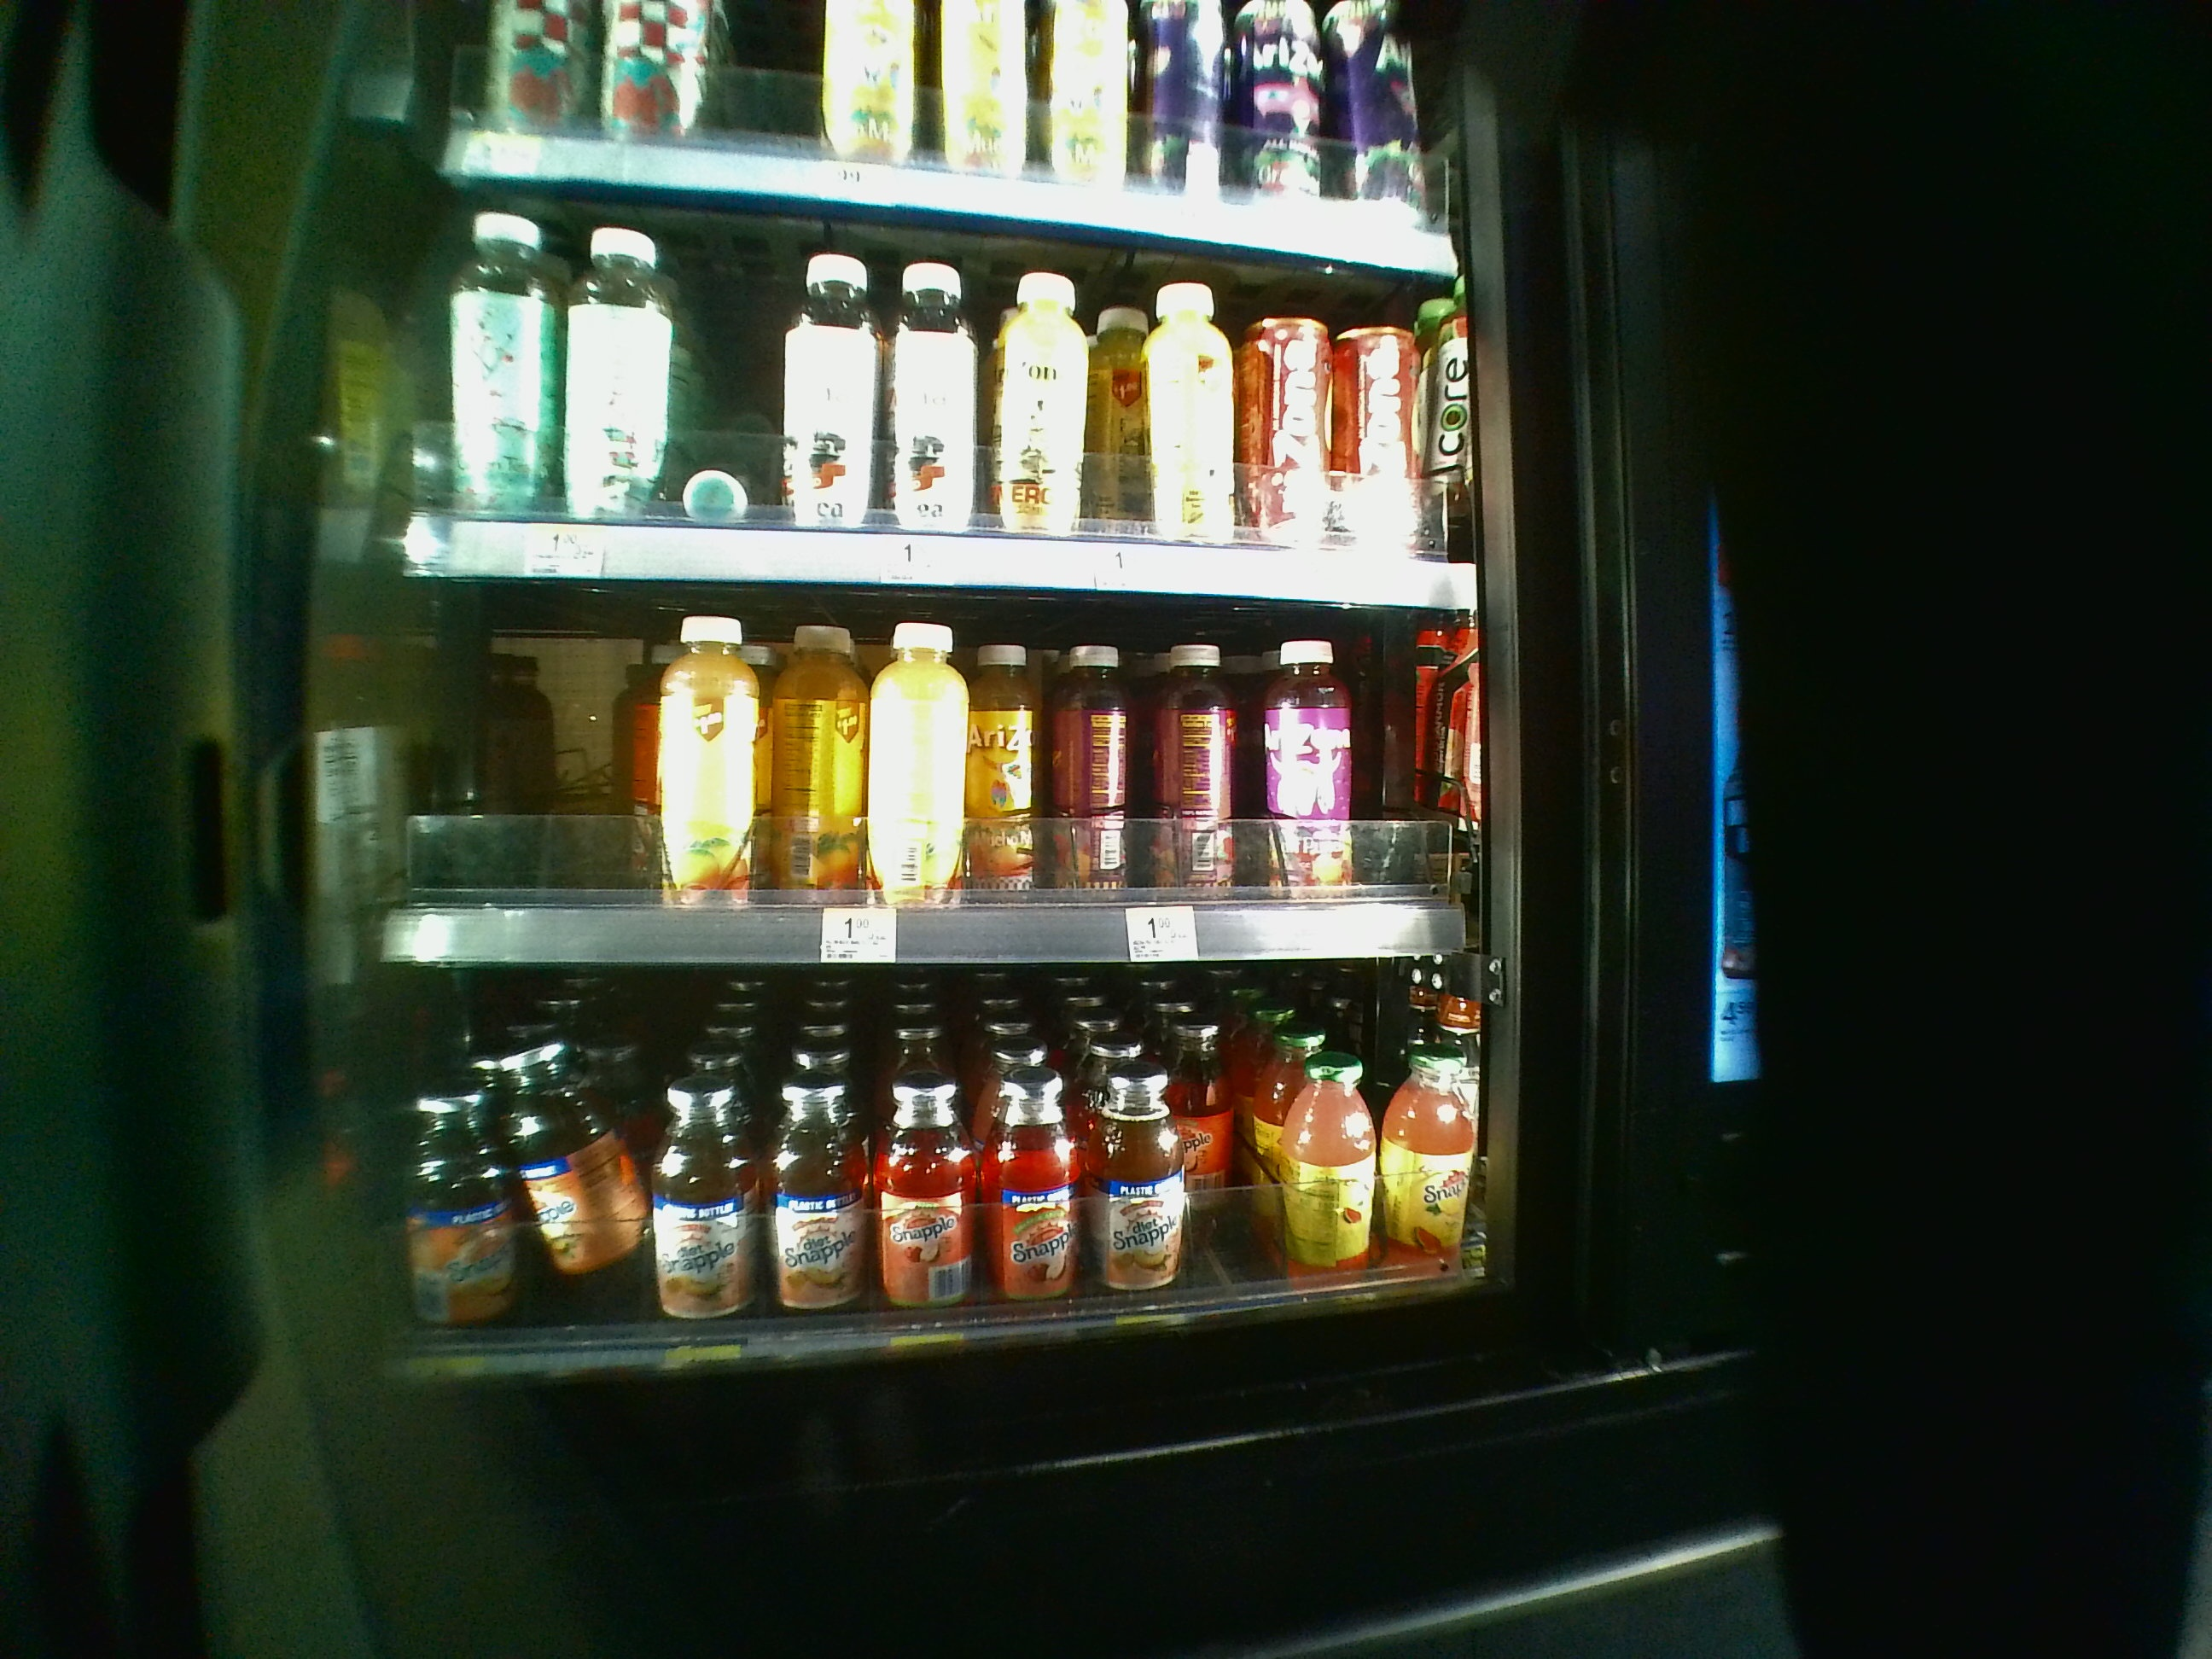shelf: (387, 582, 1484, 964), (388, 979, 1493, 1356)
